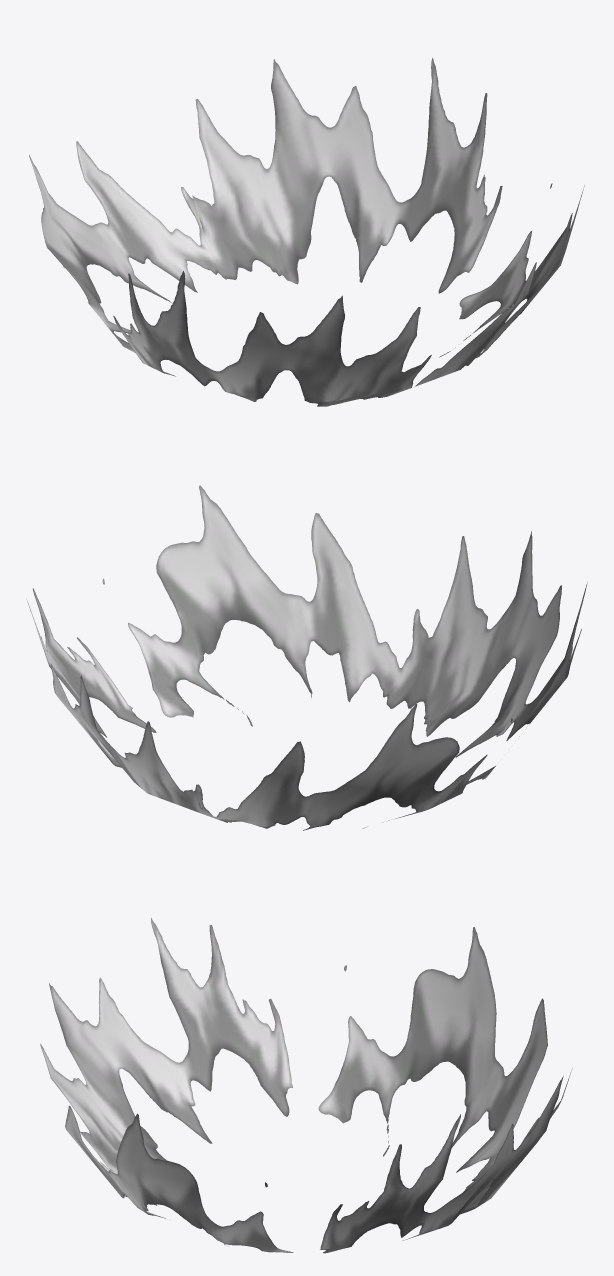
File: banyuan_tile2.FBX
The picture shows the model from 3 angles, top to bottom: view 1: azimuth 30°, elevation 25°; view 2: azimuth 150°, elevation 25°; view 3: azimuth 270°, elevation 25°; orthographic projection.
Parts seen in each view (by area): view 1: banyuan_tile2; view 2: banyuan_tile2; view 3: banyuan_tile2.
Boxes of the visible parts, left/top/right/bottom form: banyuan_tile2: left=29, top=57, right=584, bottom=406; banyuan_tile2: left=26, top=485, right=587, bottom=830; banyuan_tile2: left=40, top=917, right=572, bottom=1253.
Bounding box in the file's own units: 208 × 96.1 × 208.
